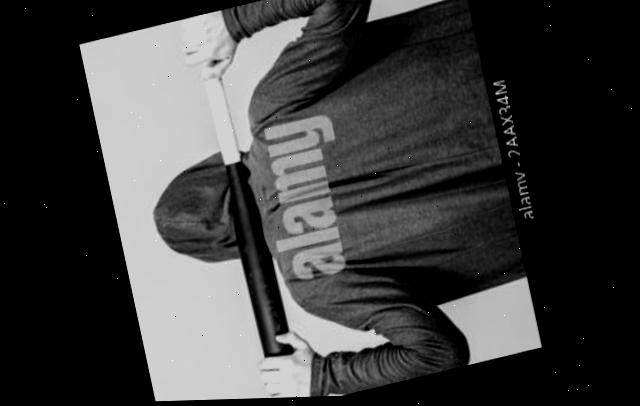baseball bat: (186, 9, 306, 402)
